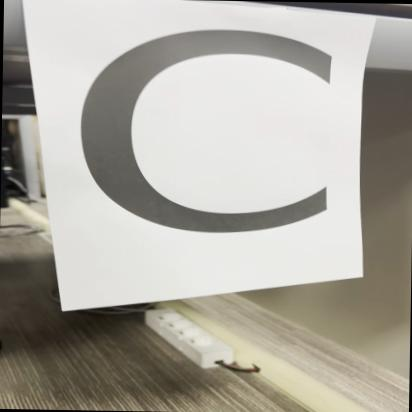seat: (60, 18, 362, 280)
